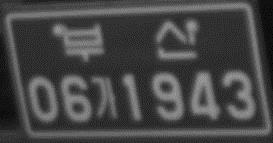0: (27, 72, 57, 126)
1: (118, 71, 144, 123)
3: (221, 69, 255, 121)
4: (188, 70, 220, 121)
6: (60, 73, 92, 125)
9: (149, 70, 186, 124)
가: (91, 74, 118, 121)
부산_D: (61, 15, 200, 64)
